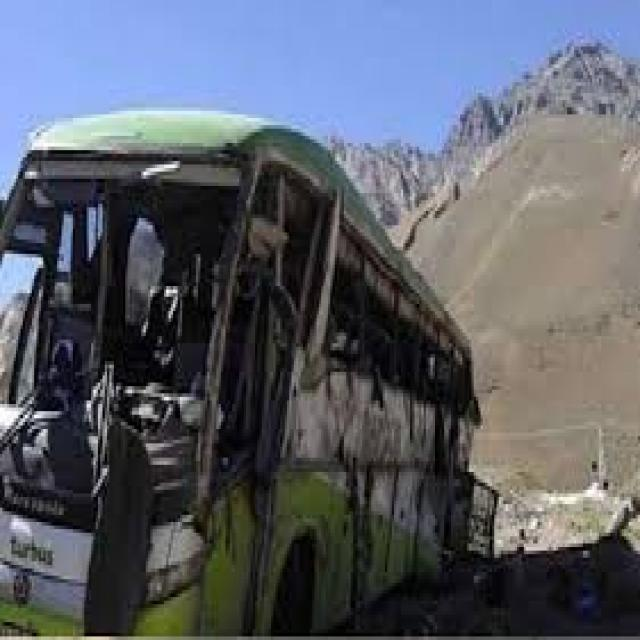accident: (0, 58, 504, 628)
